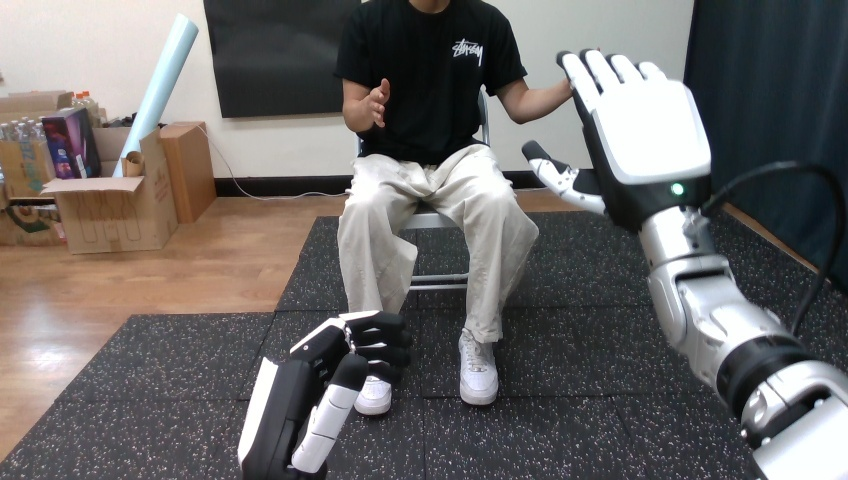left robot hand: (523, 50, 847, 478), (238, 310, 411, 478)
